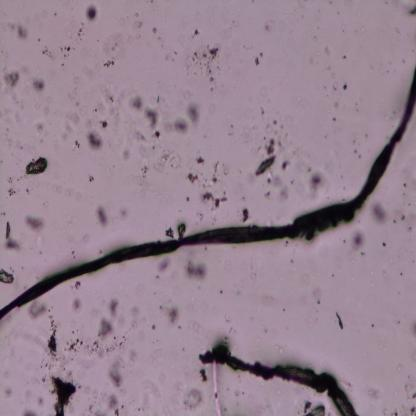Background material: (183, 24, 221, 92), (63, 334, 127, 358), (46, 372, 78, 416), (133, 374, 166, 416), (58, 22, 86, 68), (96, 84, 126, 126), (142, 148, 181, 180), (254, 133, 278, 180), (173, 102, 203, 134), (100, 32, 124, 70), (0, 113, 22, 153), (207, 361, 223, 415), (298, 268, 322, 304), (307, 165, 330, 199), (44, 316, 62, 356), (182, 259, 211, 282), (395, 201, 416, 232), (264, 176, 289, 202), (200, 189, 228, 211), (144, 106, 162, 140), (58, 182, 85, 204), (107, 358, 126, 389), (61, 110, 80, 141), (4, 220, 21, 254), (274, 117, 296, 143), (136, 14, 158, 38), (371, 201, 390, 228), (301, 397, 329, 415), (23, 212, 47, 232), (128, 302, 142, 335), (183, 388, 204, 410), (86, 129, 104, 154), (162, 305, 181, 328), (94, 201, 109, 230), (24, 157, 48, 175), (31, 110, 47, 137), (382, 403, 416, 415), (117, 137, 130, 167), (351, 229, 367, 253), (10, 21, 30, 40), (105, 393, 121, 416), (348, 133, 364, 155), (106, 296, 120, 320), (367, 379, 382, 401), (2, 72, 20, 90), (128, 93, 145, 112), (402, 381, 416, 403), (97, 320, 114, 338), (30, 304, 49, 320), (41, 44, 57, 62), (29, 78, 47, 93), (0, 266, 15, 284), (156, 256, 172, 272), (263, 14, 275, 34), (403, 0, 416, 18), (185, 168, 199, 184), (6, 175, 16, 197), (212, 160, 221, 184), (198, 368, 210, 386), (86, 4, 97, 23), (118, 201, 129, 220), (279, 157, 292, 173), (176, 223, 188, 240), (70, 296, 82, 313), (334, 310, 344, 330), (80, 230, 94, 244), (331, 116, 342, 132), (223, 121, 235, 135), (71, 277, 82, 292), (22, 406, 38, 416), (240, 207, 249, 224), (258, 105, 268, 120), (4, 385, 15, 397), (254, 52, 263, 66), (340, 79, 349, 92), (223, 309, 231, 323), (99, 119, 109, 130), (196, 153, 205, 165), (409, 321, 416, 336), (167, 226, 174, 240), (334, 81, 340, 97), (87, 174, 96, 184), (216, 286, 224, 296), (380, 240, 388, 248), (368, 322, 375, 330)
Cellulose filter fibre: (198, 340, 358, 415)
Cotton: (0, 64, 416, 319)
